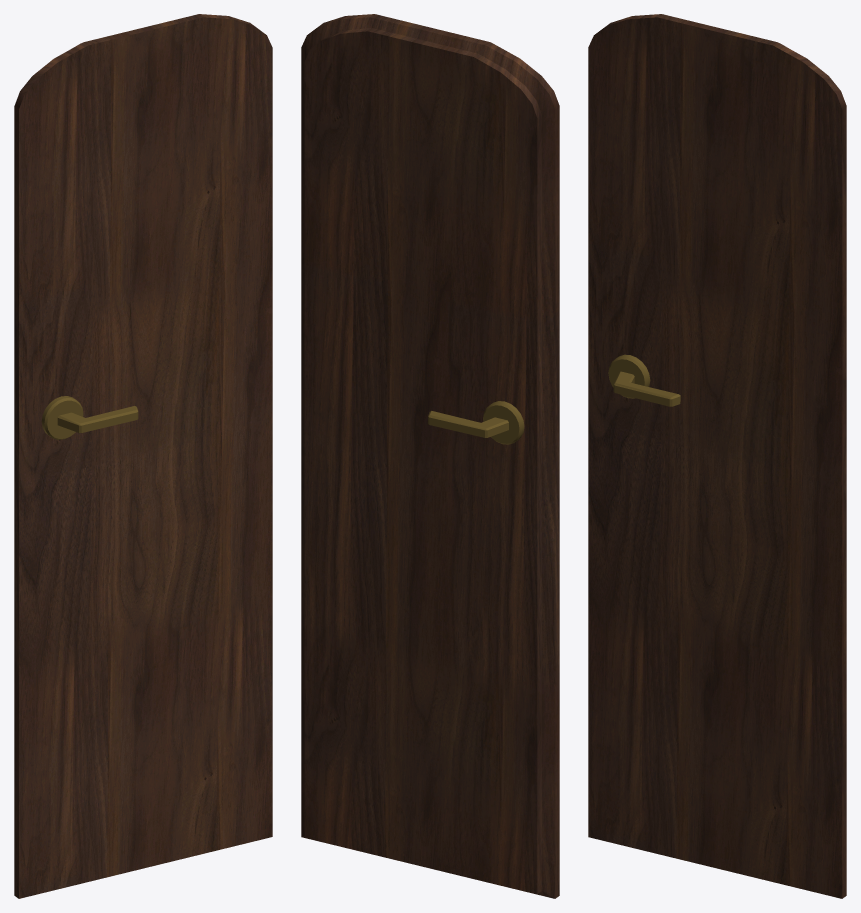
Rendered from plane_interior_cockpit_door.dae.
3 renders of one model, left to right at view 1: azimuth 30°, elevation 25°; view 2: azimuth 150°, elevation 25°; view 3: azimuth 330°, elevation 25°, orthographic.
Visible parts, largest first — view 1: door, door_handle; view 2: door, door_handle; view 3: door, door_handle.
Boxes of the visible parts, <box> form: door: <box>14,14,272,898</box>; door_handle: <box>41,396,138,439</box>; door: <box>301,14,559,898</box>; door_handle: <box>428,401,524,444</box>; door: <box>588,14,846,898</box>; door_handle: <box>608,354,680,406</box>.
Size of the model in its own units: 64.06 by 202 by 21.22.
